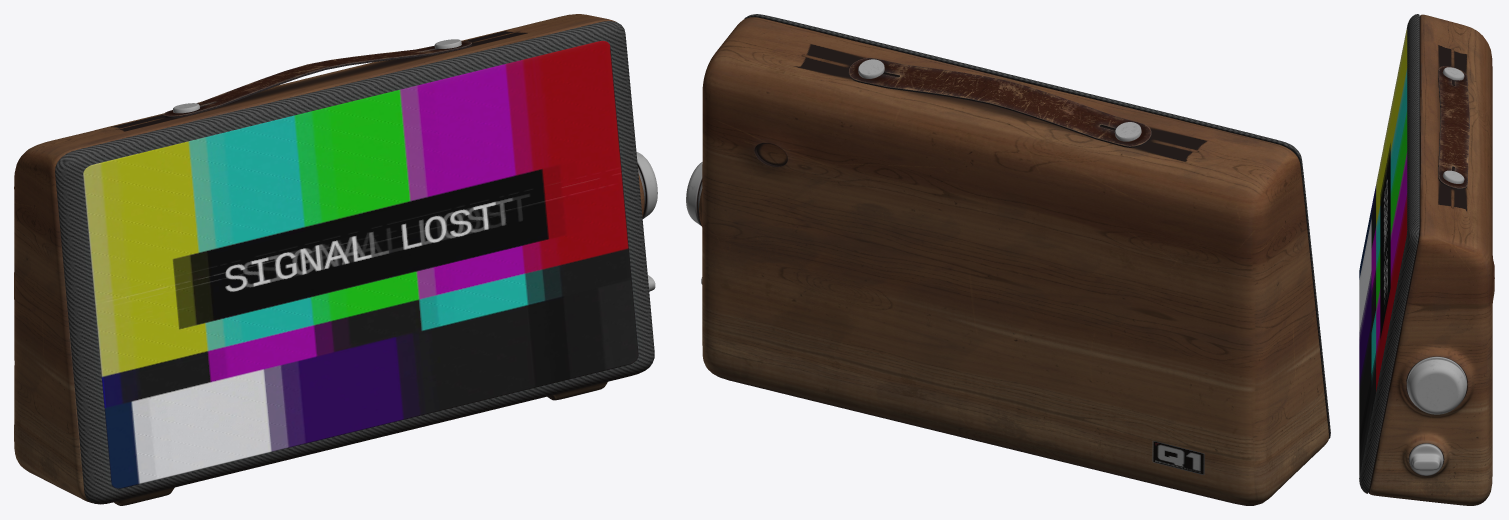
File: monitor.fbx
3 renders of one model, left to right at view 1: azimuth 30°, elevation 25°; view 2: azimuth 150°, elevation 25°; view 3: azimuth 270°, elevation 25°, orthographic. The views are drawn at different scales.
Parts seen in each view (by area): view 1: monitor.001_low, monitor.003_low; view 2: monitor.001_low, monitor.003_low; view 3: monitor.001_low, monitor.003_low, monitor_low.
Part boxes in pixels (left/top/right/bottom): monitor.001_low: left=14, top=14, right=654, bottom=505; monitor.003_low: left=636, top=151, right=657, bottom=218; monitor.001_low: left=699, top=14, right=1330, bottom=505; monitor.003_low: left=686, top=162, right=702, bottom=225; monitor.001_low: left=1359, top=14, right=1494, bottom=505; monitor.003_low: left=1406, top=356, right=1467, bottom=414; monitor_low: left=1409, top=443, right=1443, bottom=475.
Bounding box in the file's own units: 3072 × 1722 × 740.
